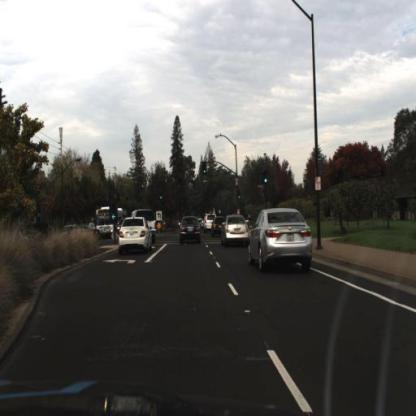car: (250, 209, 314, 271), (119, 218, 155, 254), (221, 215, 252, 249), (130, 210, 158, 246), (225, 216, 248, 245), (180, 215, 202, 244), (135, 210, 156, 239), (215, 215, 227, 240), (206, 213, 216, 235)
trafficLight: (204, 164, 208, 177)
trafficLight-Green: (263, 173, 271, 193), (263, 175, 269, 189), (160, 193, 165, 209)
trafficLight-GreenLeft: (112, 204, 118, 228)
truck: (95, 207, 120, 239)
